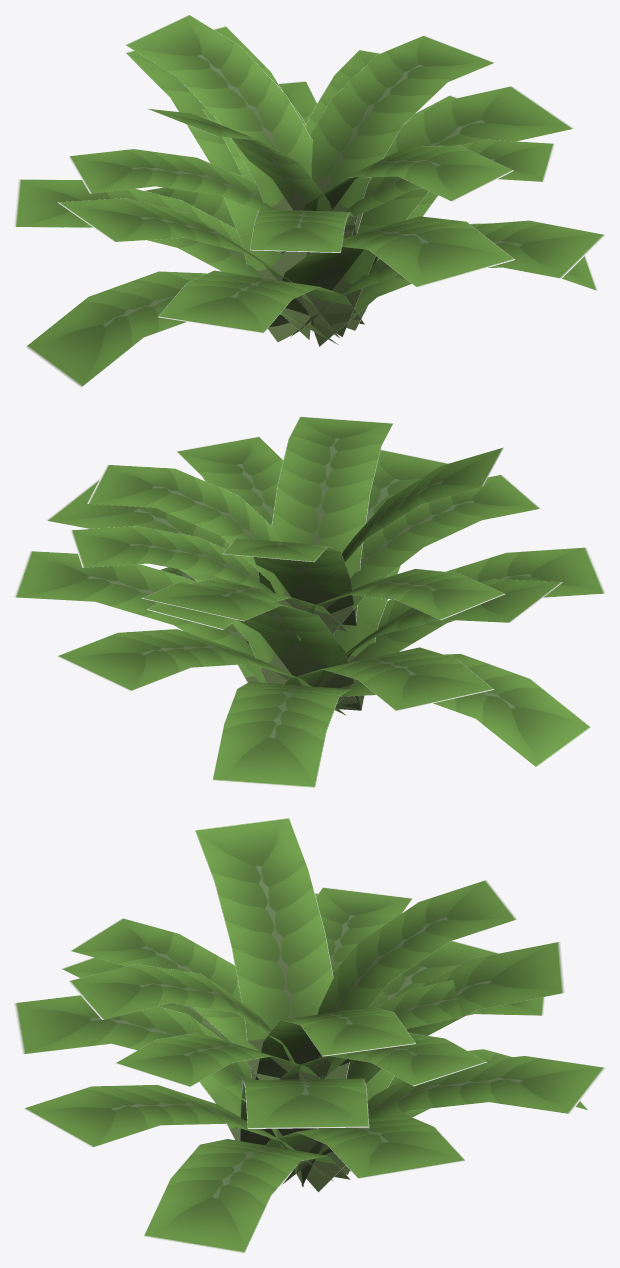
The model's file is Plant_09.glb.
3 renders of one model, top to bottom at view 1: azimuth 30°, elevation 25°; view 2: azimuth 150°, elevation 25°; view 3: azimuth 270°, elevation 25°, orthographic. The views are drawn at different scales.
Visible parts, largest first — view 1: Plant_09_LOD0; view 2: Plant_09_LOD0; view 3: Plant_09_LOD0.
Boxes of the visible parts, left/top/right/bottom form: Plant_09_LOD0: left=14, top=14, right=605, bottom=387; Plant_09_LOD0: left=14, top=416, right=605, bottom=788; Plant_09_LOD0: left=14, top=817, right=605, bottom=1253.
Size of what is drawn, in the model's own units: 0.7807 by 0.3801 by 0.7589.
Materials: 1 (1 with a texture image).
